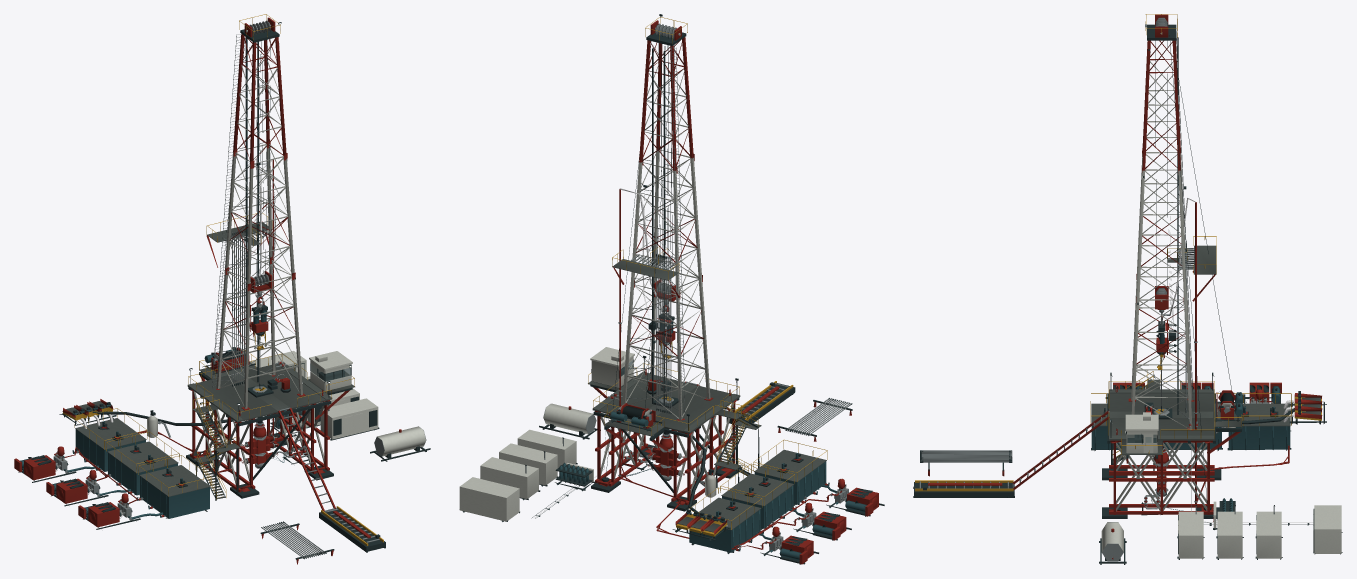
The model's file is land_1500_ac_double_detailed_lodL.glb.
The picture shows the model from 3 angles, left to right: view 1: azimuth 30°, elevation 25°; view 2: azimuth 150°, elevation 25°; view 3: azimuth 270°, elevation 25°; orthographic projection. The views are drawn at different scales.
Visible parts, largest first — view 1: derrick_ivory, drill_floor_deck, substructure_oxide, derrick_oxide, power_end_oxide (×3), tank_3_blue, generator_3_ivory, substructure_ivory, top_drive_guide_dark, tank_3_deck, tank_2_deck, tank_1_deck (+15 smaller); view 2: derrick_ivory, drill_floor_deck, substructure_oxide, derrick_oxide, setback_pipe_steel, vfd_house_ivory, generator_1_ivory, top_drive_guide_dark, substructure_ivory, drill_line_dark, tank_1_blue, generator_2_ivory (+17 smaller); view 3: derrick_ivory, drill_floor_deck, substructure_oxide, derrick_oxide, substructure_ivory, vfd_house_ivory, tank_1_blue, generator_1_ivory, generator_2_ivory, generator_3_ivory, pipe_rack_steel, drill_line_dark (+10 smaller).
Part boxes in pixels (<box>): derrick_ivory: <box>216,58,302,408</box>; drill_floor_deck: <box>187,361,354,422</box>; substructure_oxide: <box>190,376,350,492</box>; derrick_oxide: <box>216,34,305,410</box>; power_end_oxide (×3): <box>24,455,119,527</box>; tank_3_blue: <box>136,476,209,518</box>; generator_3_ivory: <box>320,398,378,439</box>; substructure_ivory: <box>193,391,324,485</box>; top_drive_guide_dark: <box>245,37,258,382</box>; tank_3_deck: <box>139,465,210,496</box>; tank_2_deck: <box>107,441,178,473</box>; tank_1_deck: <box>75,418,146,449</box>; derrick_ivory: <box>622,63,710,419</box>; drill_floor_deck: <box>588,371,740,436</box>; substructure_oxide: <box>593,387,737,505</box>; derrick_oxide: <box>621,37,713,420</box>; setback_pipe_steel: <box>656,253,671,414</box>; vfd_house_ivory: <box>459,477,519,521</box>; generator_1_ivory: <box>480,457,538,498</box>; top_drive_guide_dark: <box>652,48,665,406</box>; substructure_ivory: <box>600,402,733,495</box>; drill_line_dark: <box>605,32,674,478</box>; tank_1_blue: <box>689,509,763,552</box>; generator_2_ivory: <box>499,443,557,485</box>; derrick_ivory: <box>1131,61,1192,429</box>; drill_floor_deck: <box>1109,389,1241,454</box>; substructure_oxide: <box>1109,432,1240,514</box>; derrick_oxide: <box>1128,40,1194,430</box>; substructure_ivory: <box>1116,442,1207,511</box>; vfd_house_ivory: <box>1313,505,1341,553</box>; tank_1_blue: <box>1228,426,1290,449</box>; generator_1_ivory: <box>1256,511,1281,558</box>; generator_2_ivory: <box>1217,511,1242,558</box>; generator_3_ivory: <box>1178,511,1203,558</box>; pipe_rack_steel: <box>921,450,1011,462</box>; drill_line_dark: <box>1155,23,1231,503</box>.
Size of the model in its own units: 41.75 by 53.85 by 43.9.
12 materials, 10 textured.
